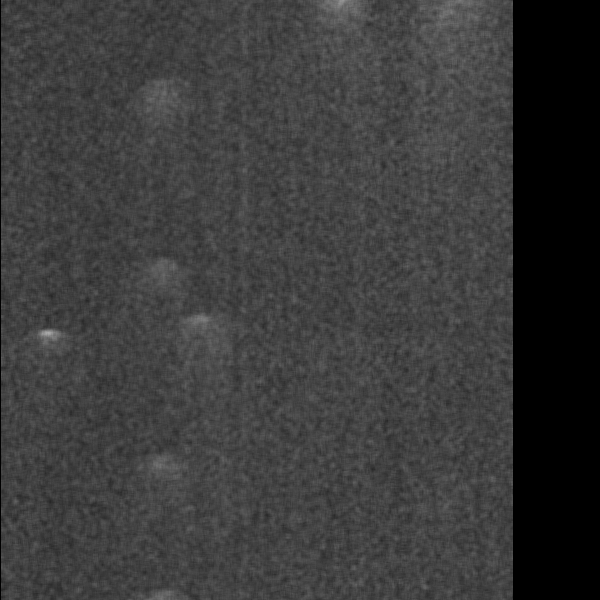spark: (84, 271, 173, 331), (95, 354, 166, 412), (42, 188, 100, 230), (446, 383, 484, 430), (474, 496, 511, 530)
